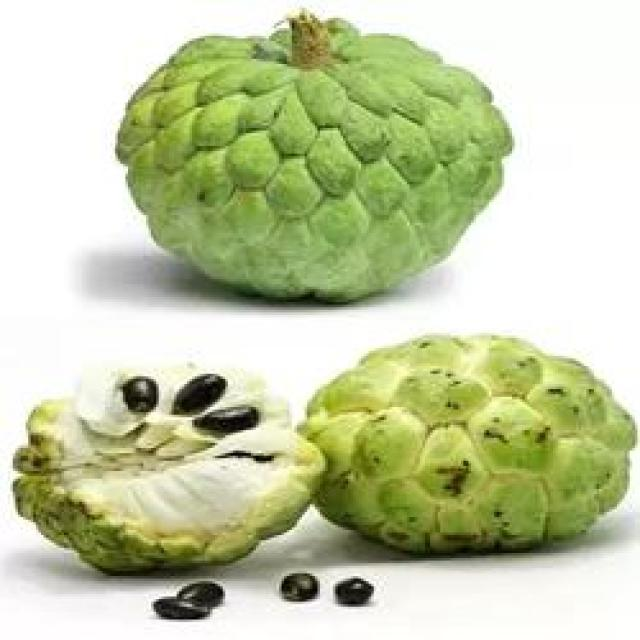apple: (113, 10, 522, 310), (299, 325, 640, 568), (5, 346, 323, 581)
